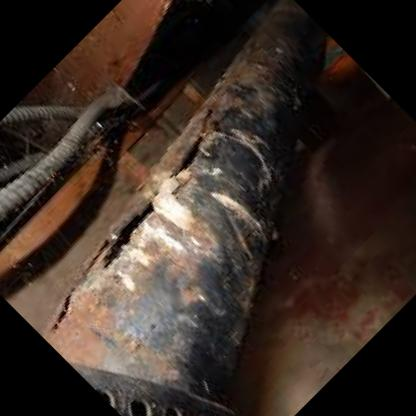burst: (99, 192, 165, 275), (170, 134, 219, 179)
